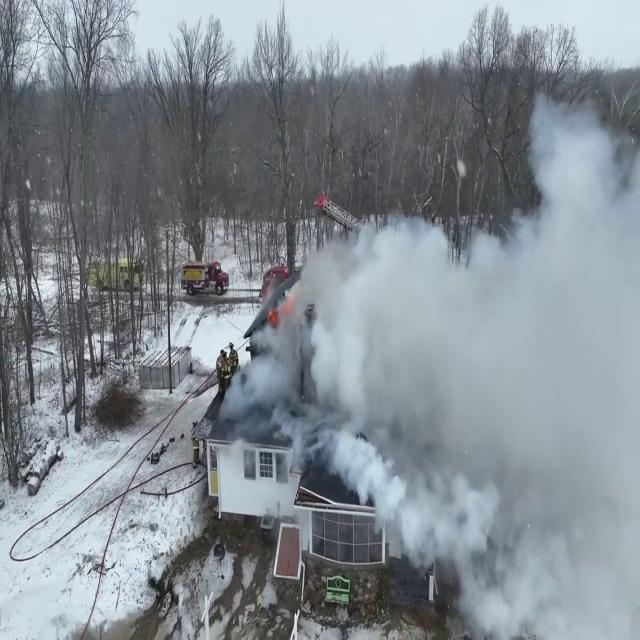Smoke: (253, 66, 640, 634)
